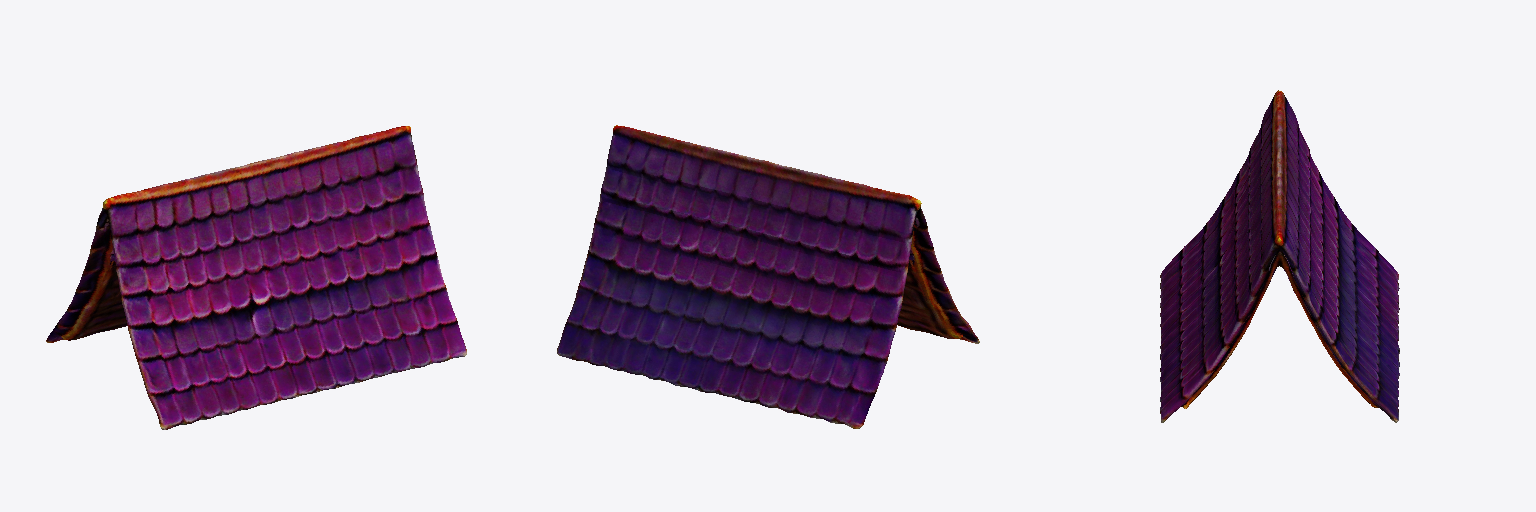
3 views of the same model, side by side, from view 1: azimuth 30°, elevation 25°; view 2: azimuth 150°, elevation 25°; view 3: azimuth 270°, elevation 25° (orthographic).
Parts seen in each view (by area): view 1: mesh; view 2: mesh; view 3: mesh.
Part boxes in pixels (x1,y1,x2,y2): mesh: (46, 126, 466, 429); mesh: (557, 125, 979, 428); mesh: (1160, 90, 1399, 422).
Size of the model in its own units: 0.9942 by 0.5804 by 0.6688.
1 materials, 1 textured.